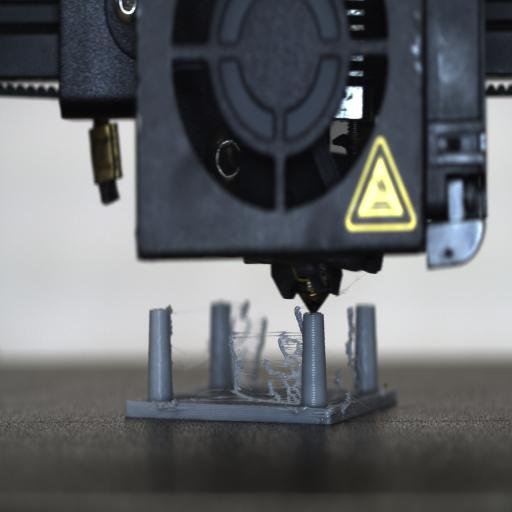stringing: (229, 306, 304, 416)
